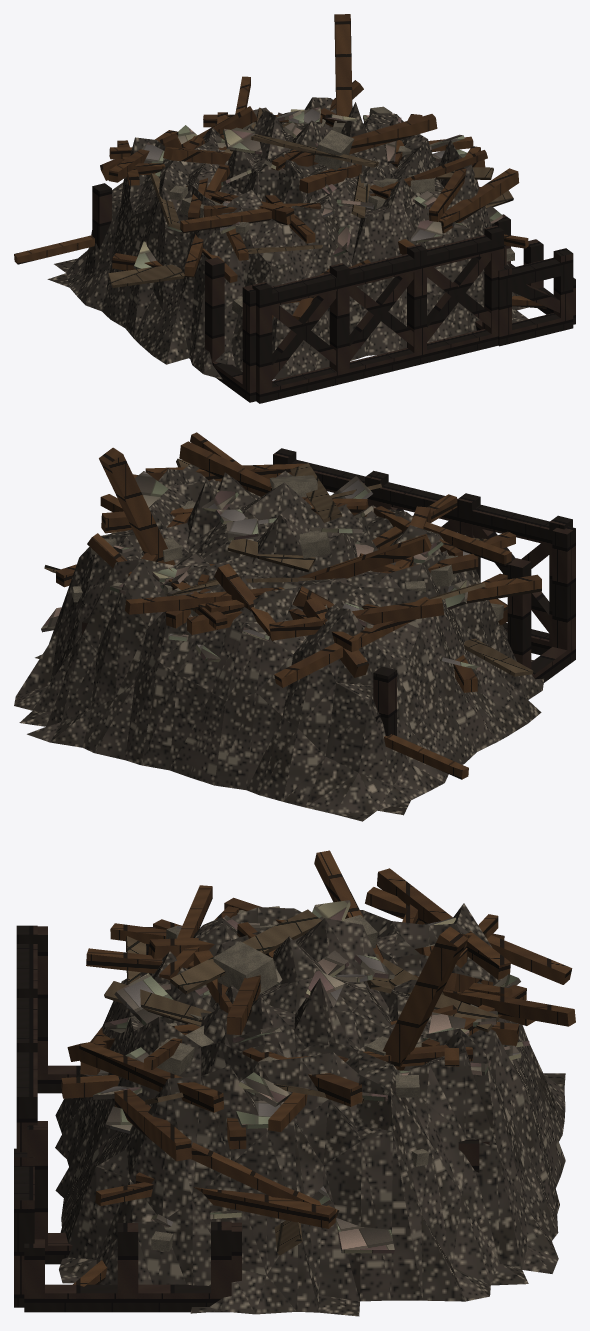
The model's file is AraHut03a.glb.
The picture shows the model from 3 angles, top to bottom: view 1: azimuth 30°, elevation 25°; view 2: azimuth 150°, elevation 25°; view 3: azimuth 270°, elevation 25°; orthographic projection. The views are drawn at different scales.
Parts seen in each view (by area): view 1: AraHut03a_timber; view 2: AraHut03a_timber; view 3: AraHut03a_timber.
Part boxes in pixels (left/top/right/bottom): AraHut03a_timber: left=14, top=14, right=575, bottom=403; AraHut03a_timber: left=14, top=432, right=575, bottom=821; AraHut03a_timber: left=14, top=850, right=575, bottom=1316.
Bounding box in the file's own units: 7.44 × 3.76 × 5.97.
Materials: 6 (6 with a texture image).
